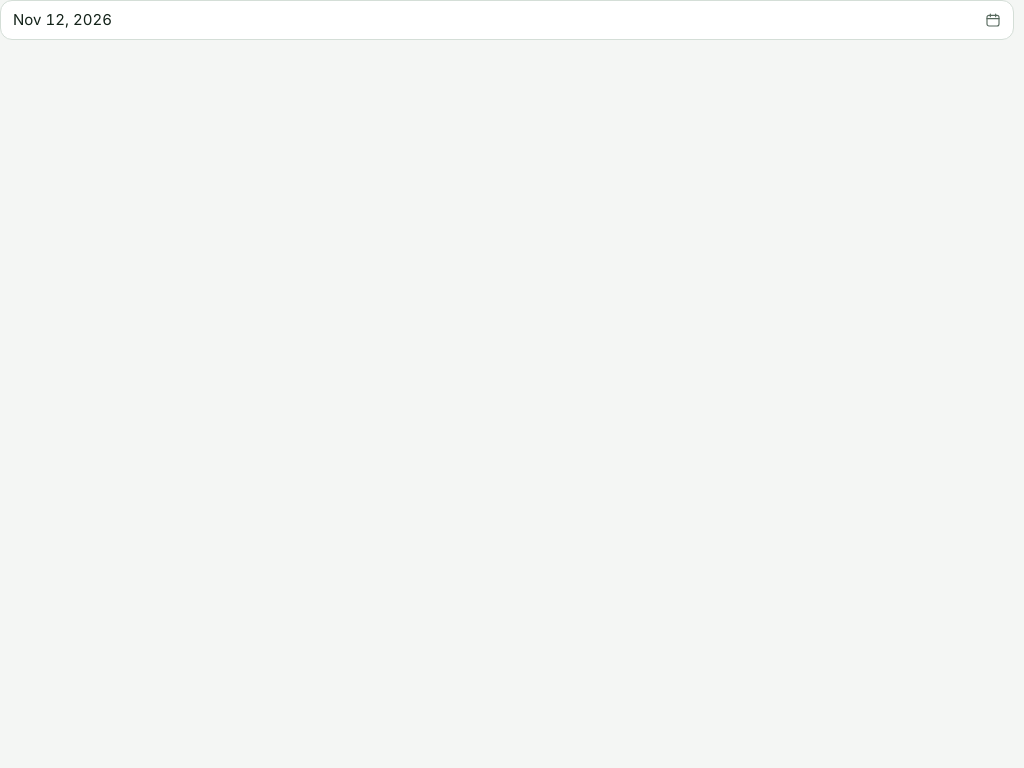
Scenario: NuqtaDatePicker › closes on outside click
Click the dropdown named "Pick date": (62, 20) [0, 0, 1014, 40]
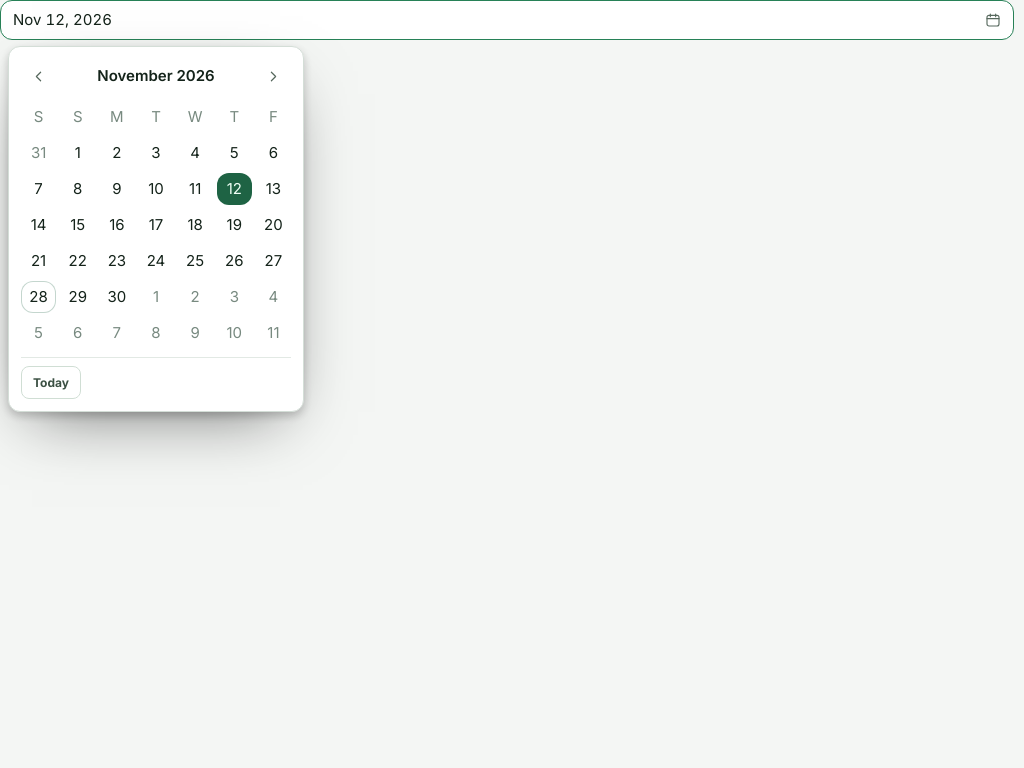
Expected: the dialog is shown, [8, 46, 304, 412]
Press the mouse on the element that starts with "Nov 12, 2026": (507, 20) [0, 0, 1014, 40]
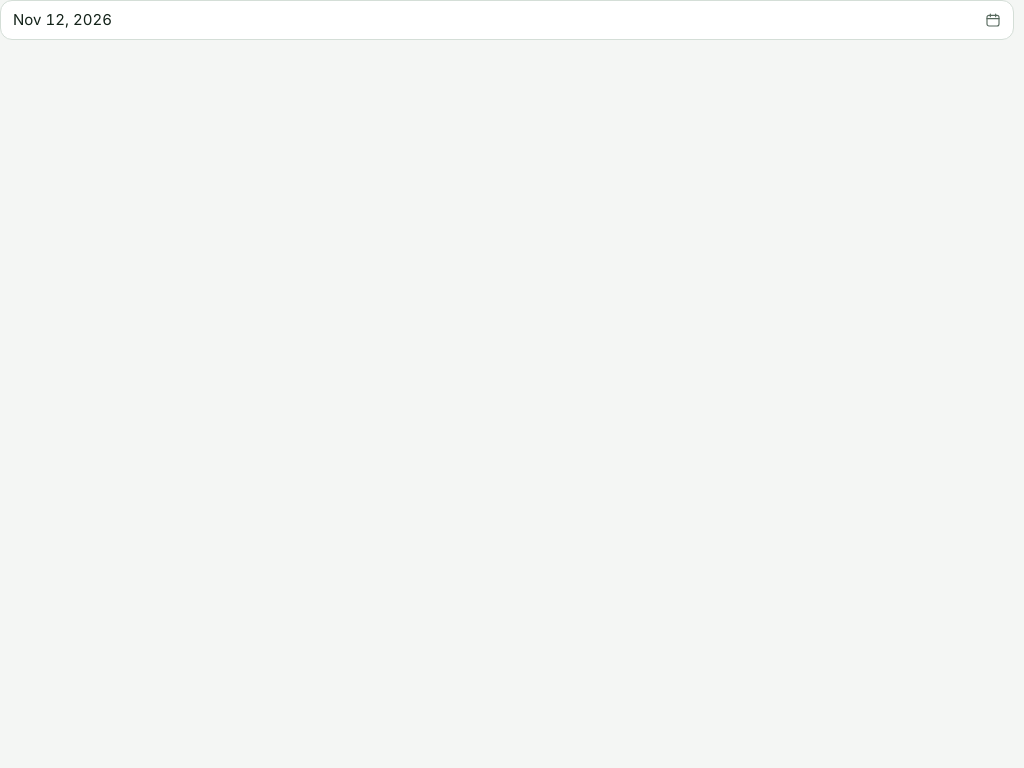
Expected: the dialog is gone
